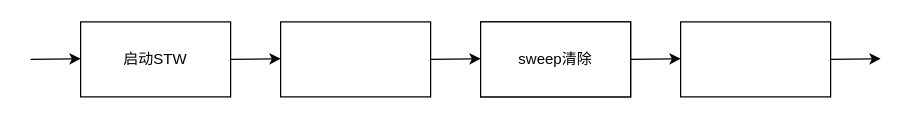
The diagram is 913 pixels wide and 119 high, and some of its shapes have lost their labels. Here are the shapes that lost their labels. From the top down, the box of each, then its label:
(279, 21, 431, 97): mark标记
(679, 21, 831, 97): 停止STW
